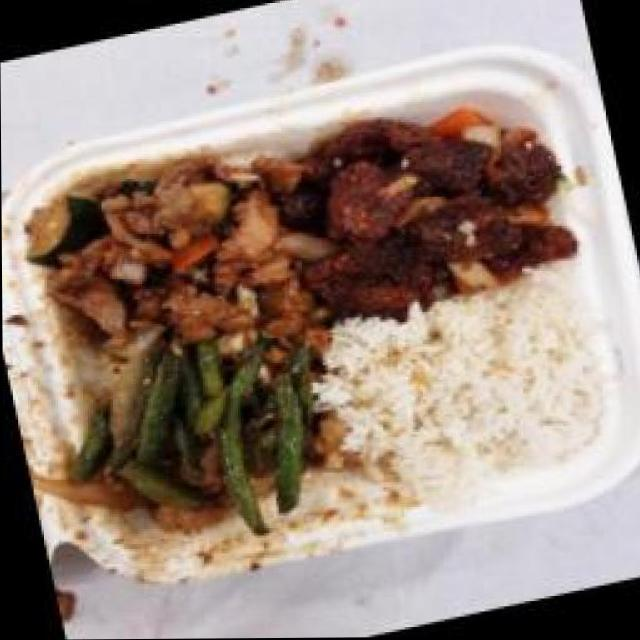Beijing Beef: (273, 72, 590, 333)
Kung Pao Chicken: (9, 123, 333, 385)
String Bean Chicken Breast: (49, 318, 348, 573)
White Steamed Rice: (322, 271, 626, 518)
